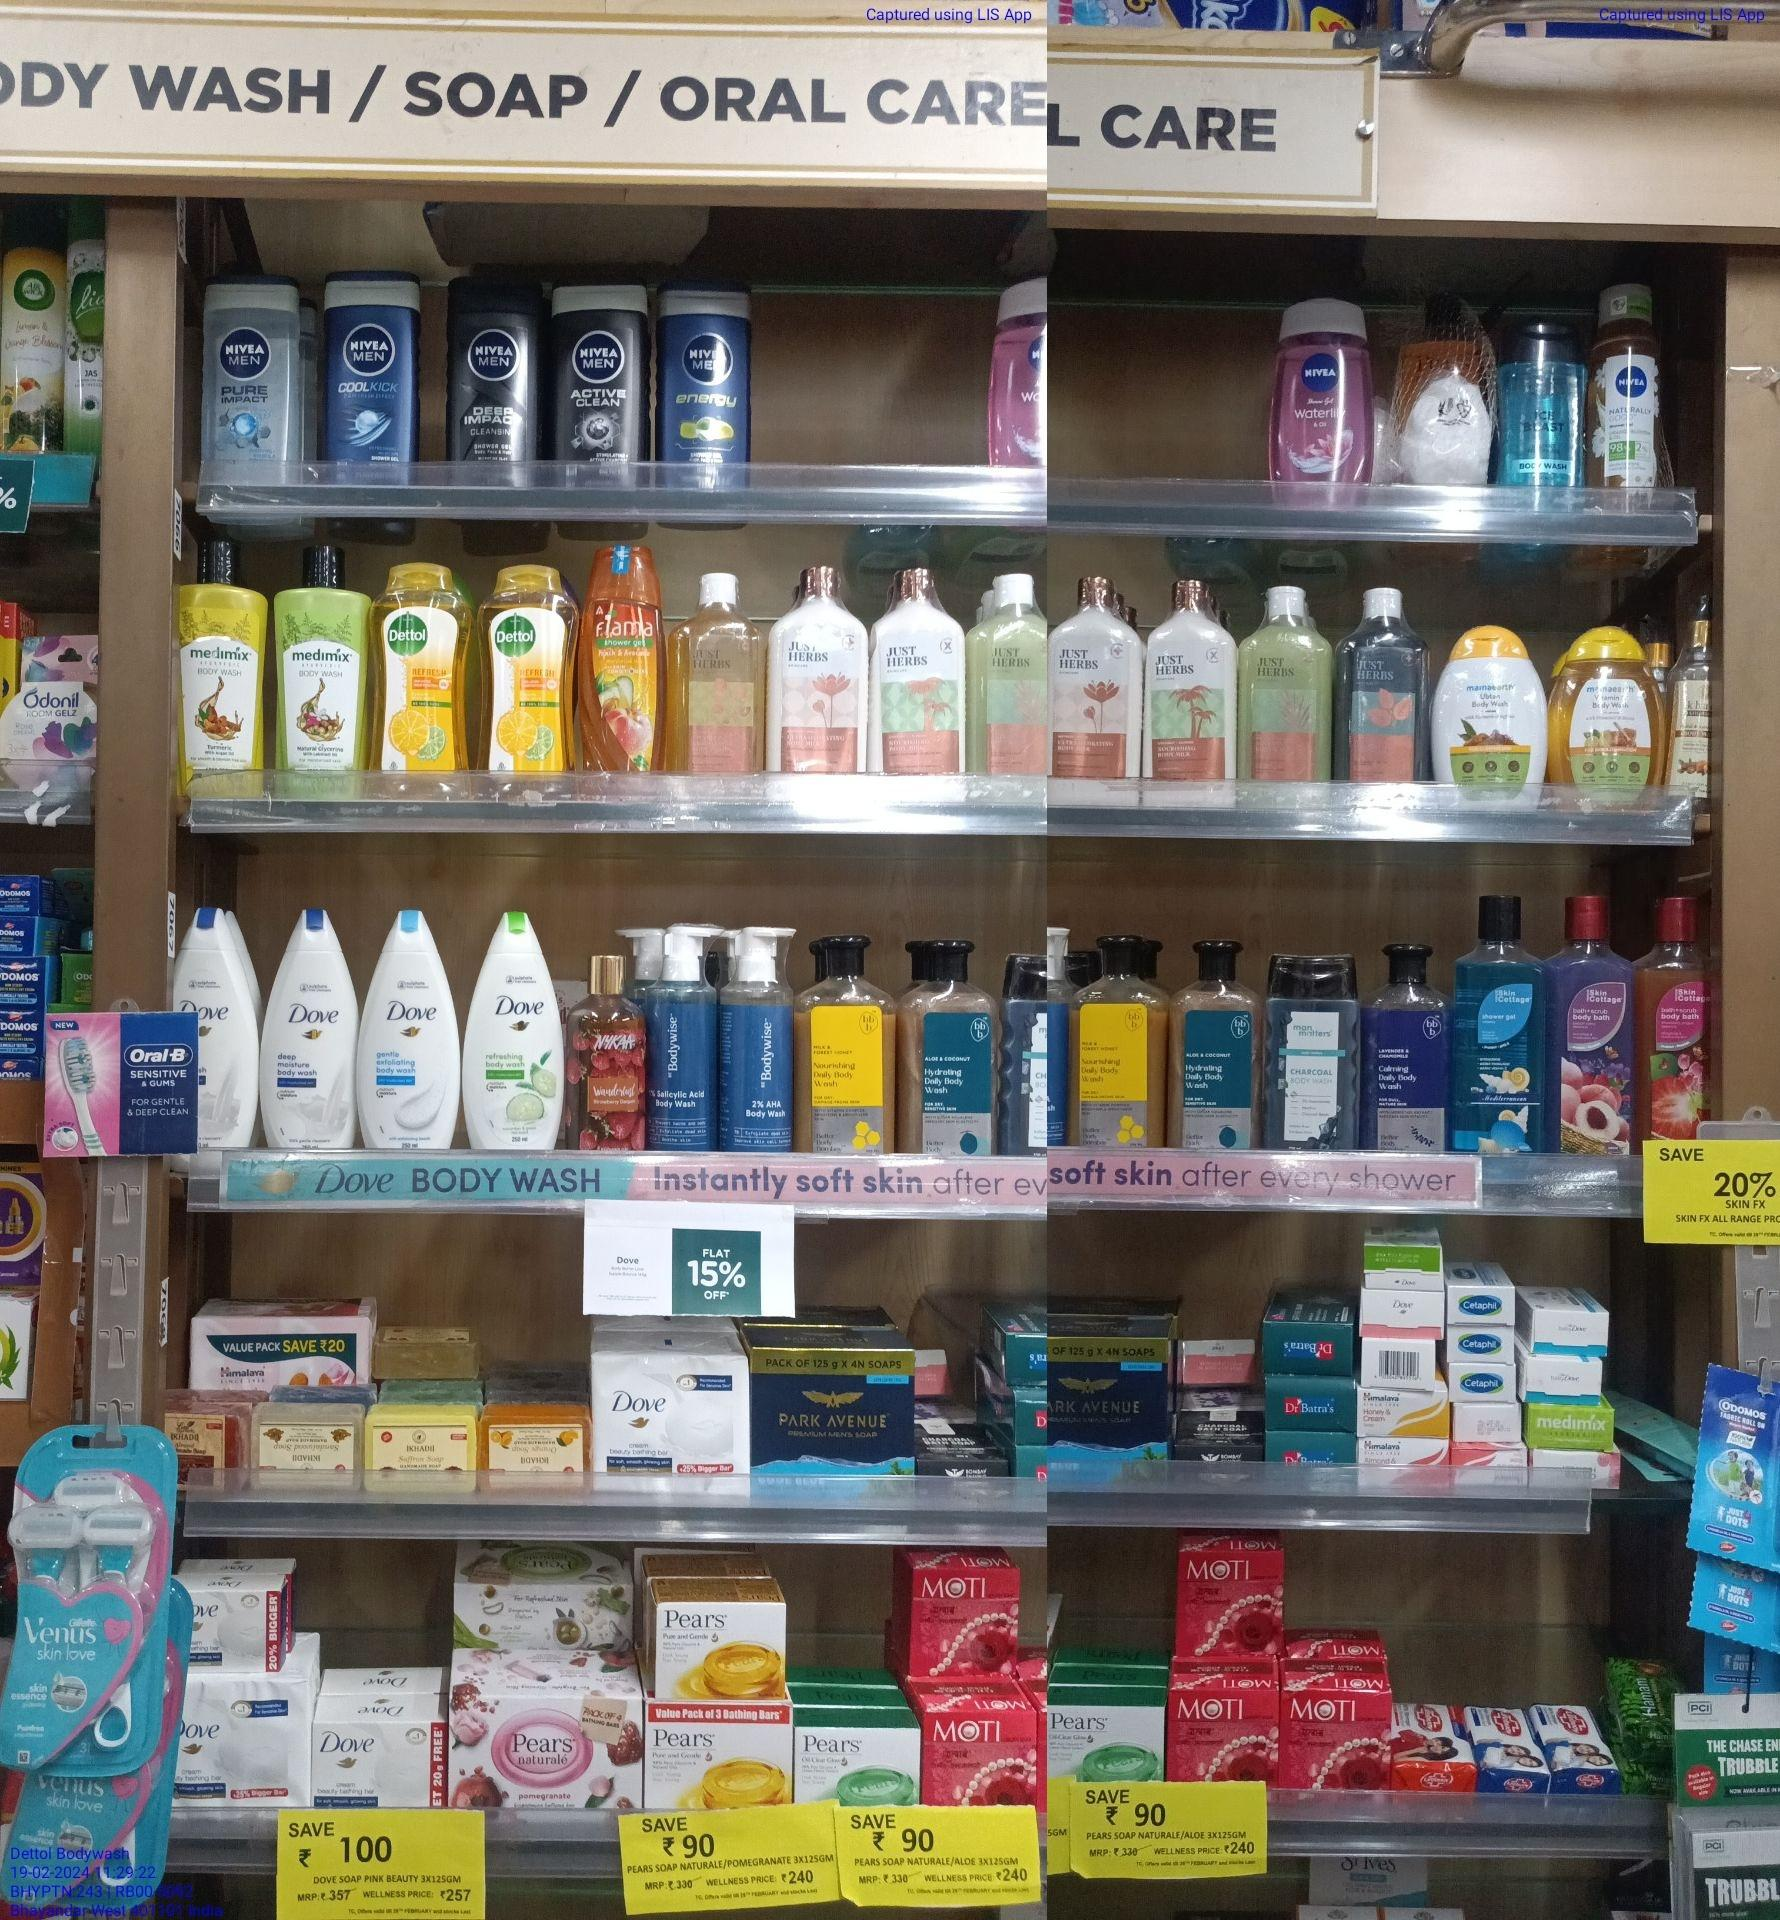Dettol_Bodywash_Refresh: (373, 540, 465, 788), (475, 565, 569, 769)
Dove_Gentle_Exfoliating_Body_Wash_250ML: (450, 920, 565, 1142)
Dove_Refreshing_Body_Wash_250ML: (356, 905, 445, 1156)
